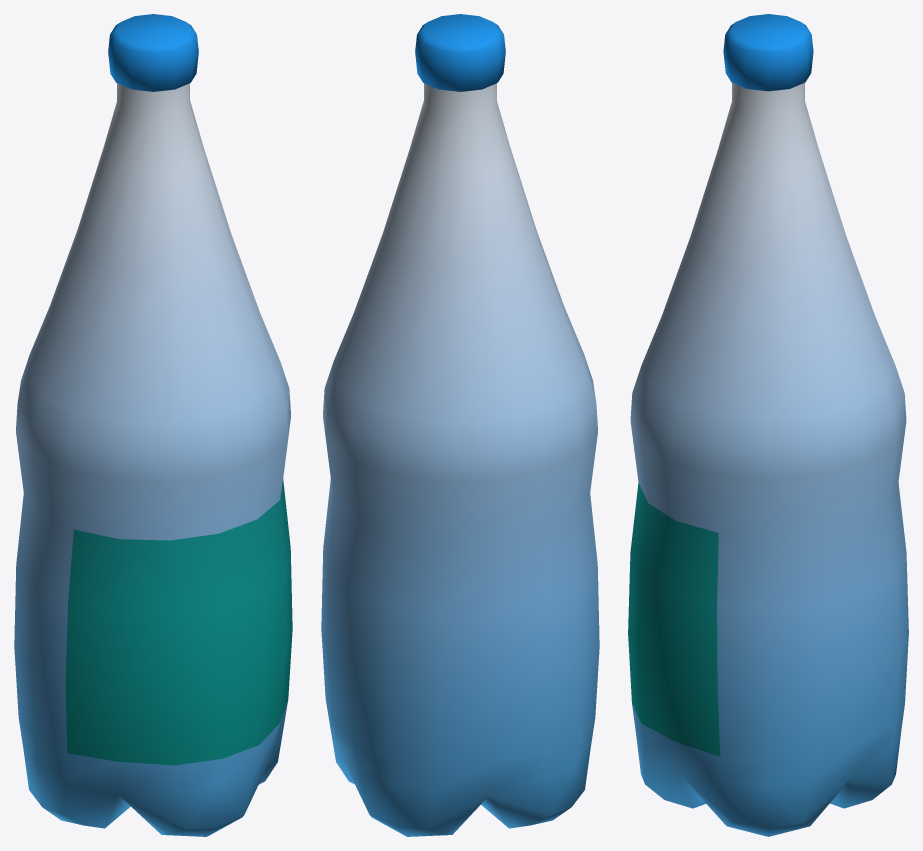
File: bottle_006.fbx
3 views of the same model, side by side, from view 1: azimuth 30°, elevation 25°; view 2: azimuth 150°, elevation 25°; view 3: azimuth 270°, elevation 25° (orthographic).
Parts seen in each view (by area): view 1: bottle_006; view 2: bottle_006; view 3: bottle_006.
Boxes of the visible parts, x1,y1,x2,y2 form: bottle_006: (14,14,292,836); bottle_006: (321,14,599,836); bottle_006: (628,14,908,836).
Size of the model in its own units: 9.85 by 9.85 by 29.86.
